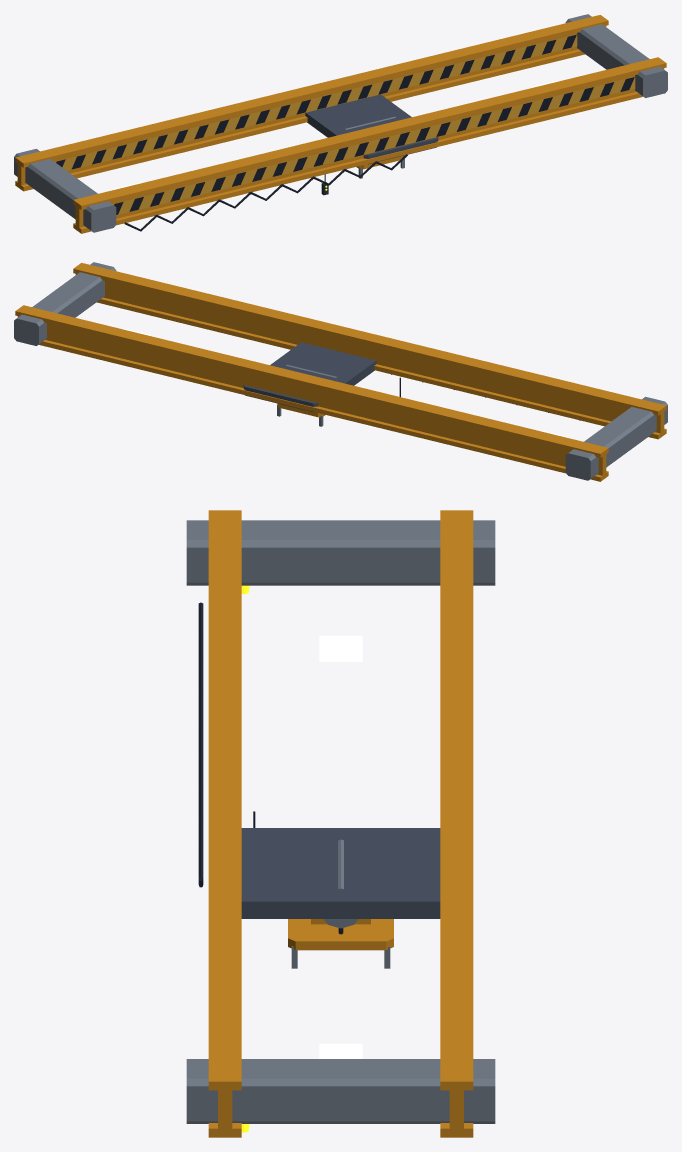
The model's file is fus_fuel_gantry_crane.glb.
The picture shows the model from 3 angles, top to bottom: view 1: azimuth 30°, elevation 25°; view 2: azimuth 150°, elevation 25°; view 3: azimuth 270°, elevation 25°; orthographic projection. The views are drawn at different scales.
Parts seen in each view (by area): view 1: bridge_flange, warning_band, festoon_cable, cask_grabber, hoist_carriage; view 2: bridge_flange, cask_grabber, hoist_carriage; view 3: bridge_flange, cask_grabber, hoist_carriage, work_light, festoon_cable.
Part boxes in pixels (x1,y1,x2,y2): bridge_flange: (15, 15, 666, 233); warning_band: (55, 34, 635, 215); festoon_cable: (56, 34, 634, 231); cask_grabber: (14, 14, 667, 232); hoist_carriage: (305, 94, 438, 164); bridge_flange: (15, 263, 666, 481); cask_grabber: (14, 262, 667, 480); hoist_carriage: (243, 342, 376, 412); bridge_flange: (208, 510, 473, 1137); cask_grabber: (186, 520, 495, 1123); hoist_carriage: (241, 828, 440, 918); work_light: (319, 635, 362, 1058); festoon_cable: (198, 602, 343, 934).
Size of the model in its own units: 14 by 1.4 by 3.2.
